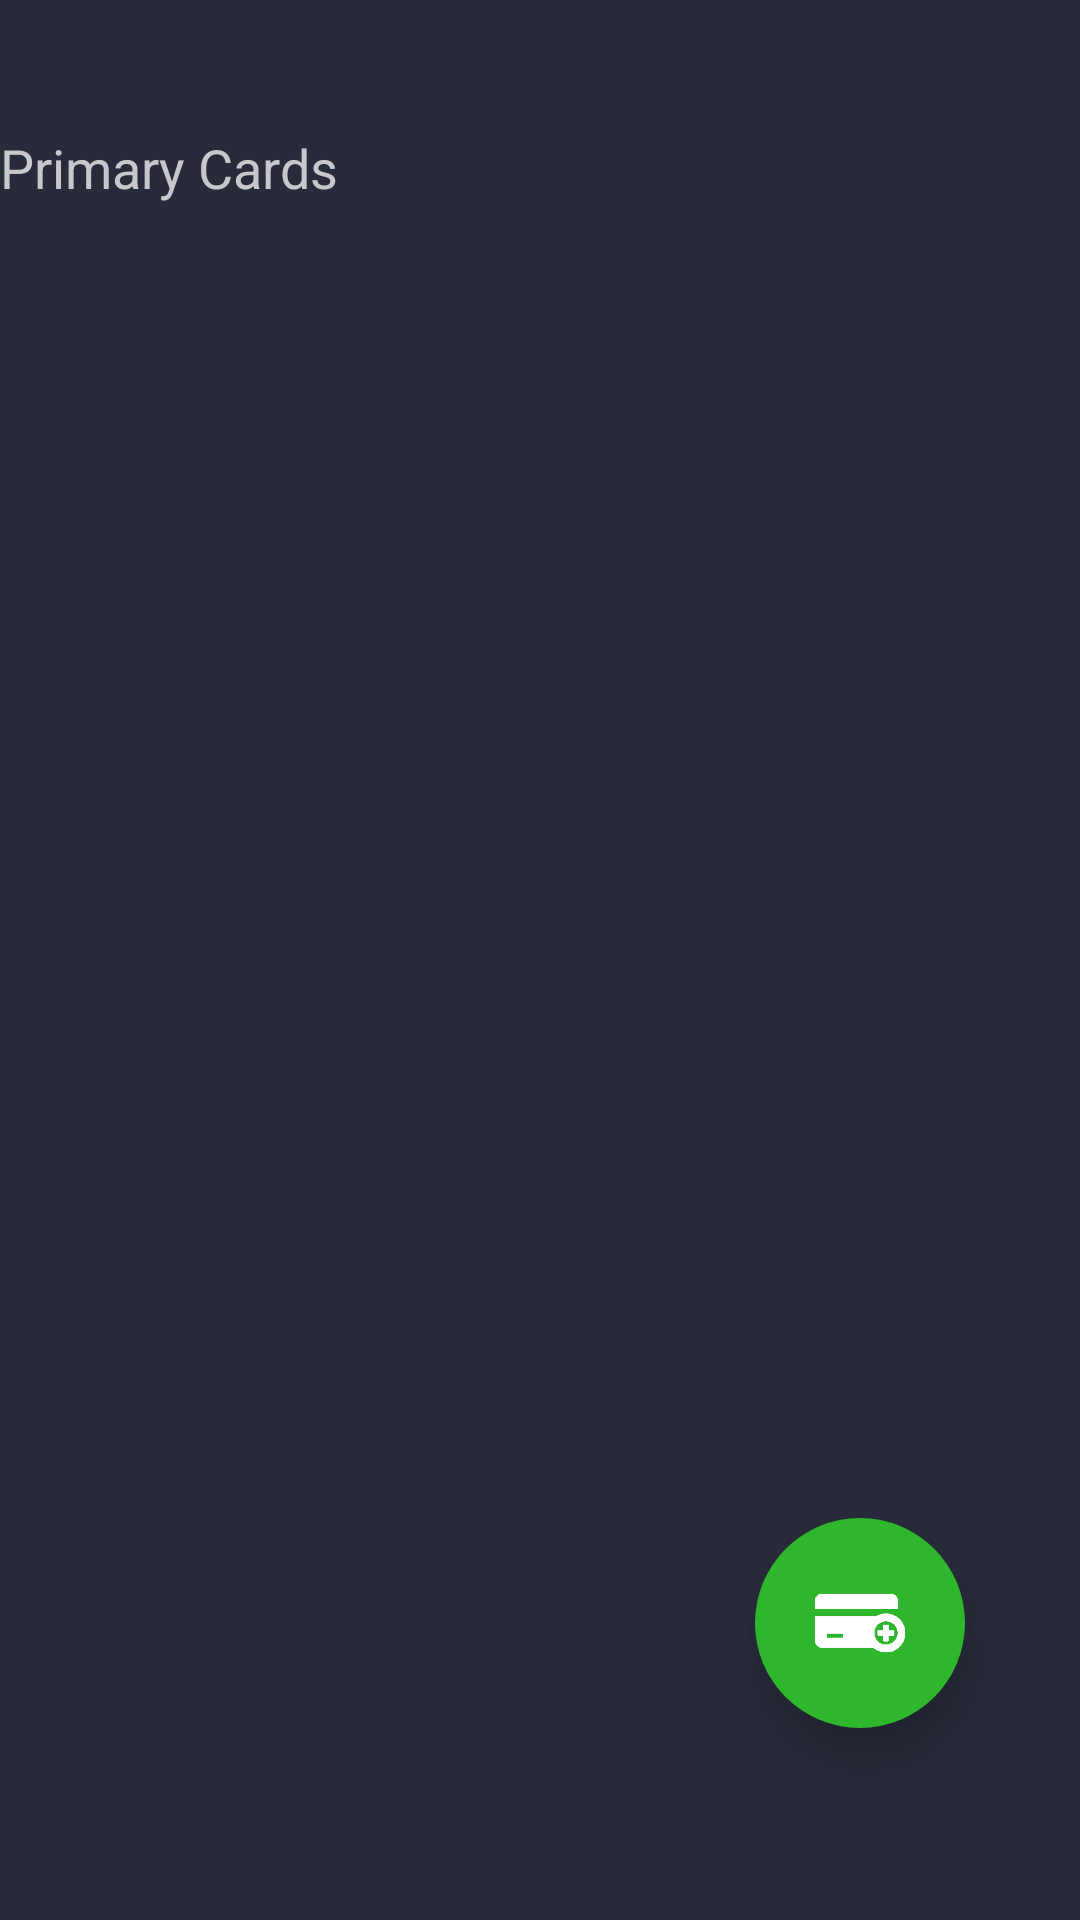

Named icons in this screenshot (1080 × 1920) and their bounding boxes, (x1, y1, x2, y2):
addcard: (755, 1518, 965, 1728)
